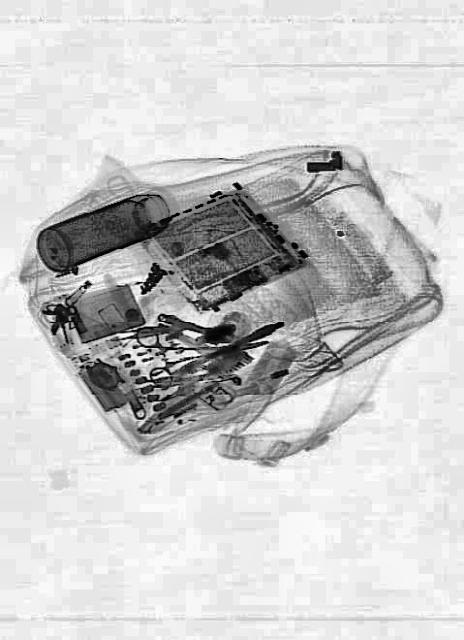Scissors: (133, 306, 271, 392)
